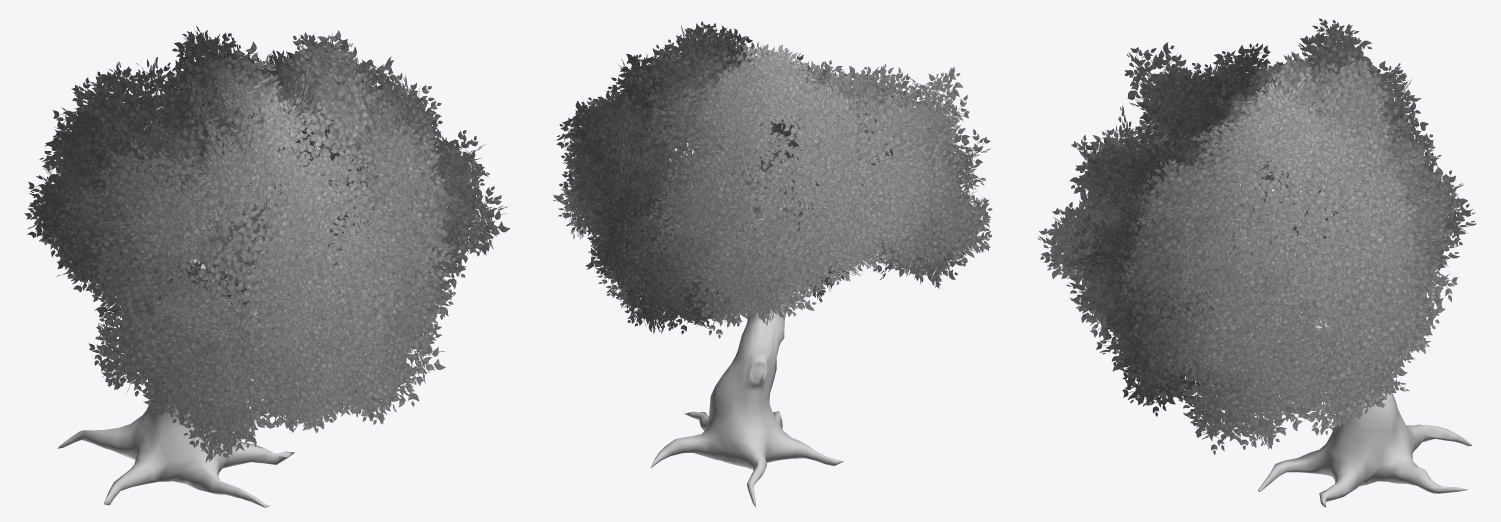
File: SM_TreeLarge_04_Unity.fbx
3 views of the same model, side by side, from view 1: azimuth 30°, elevation 25°; view 2: azimuth 150°, elevation 25°; view 3: azimuth 270°, elevation 25° (orthographic). The views are drawn at different scales.
Parts seen in each view (by area): view 1: Tree_Large_04_LOD0; view 2: Tree_Large_04_LOD0; view 3: Tree_Large_04_LOD0.
Part boxes in pixels (x1,y1,x2,y2): Tree_Large_04_LOD0: [24, 26, 509, 507]; Tree_Large_04_LOD0: [553, 21, 992, 507]; Tree_Large_04_LOD0: [1037, 18, 1476, 507].
Size of what is drawn, in the model's own units: 126 by 124 by 117.
